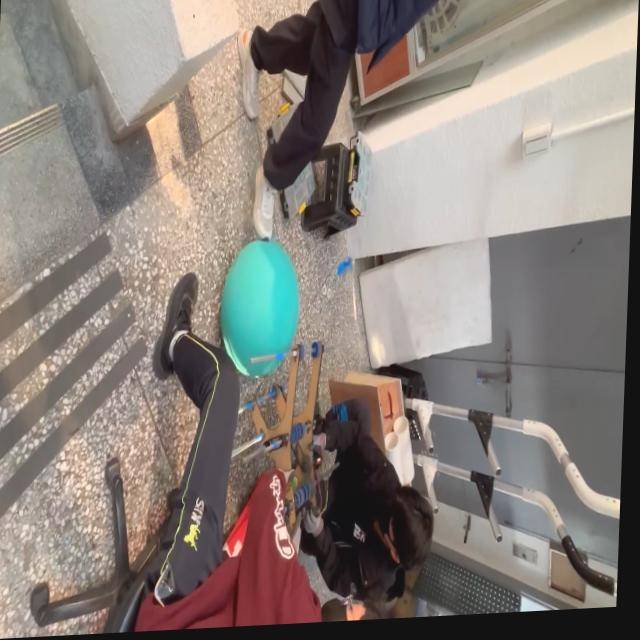ALGAE: (215, 235, 303, 381)
